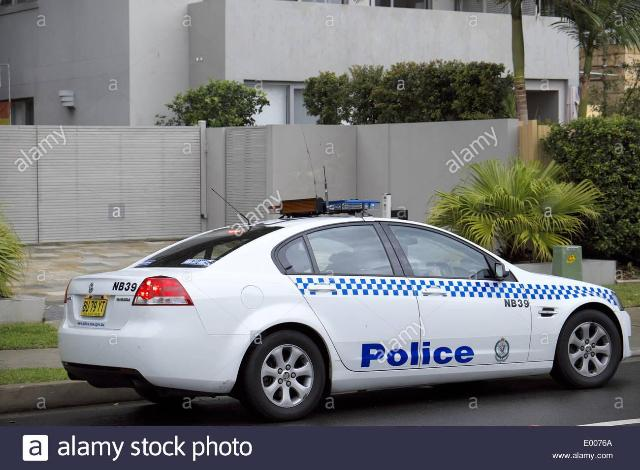police_car: (55, 196, 640, 425)
